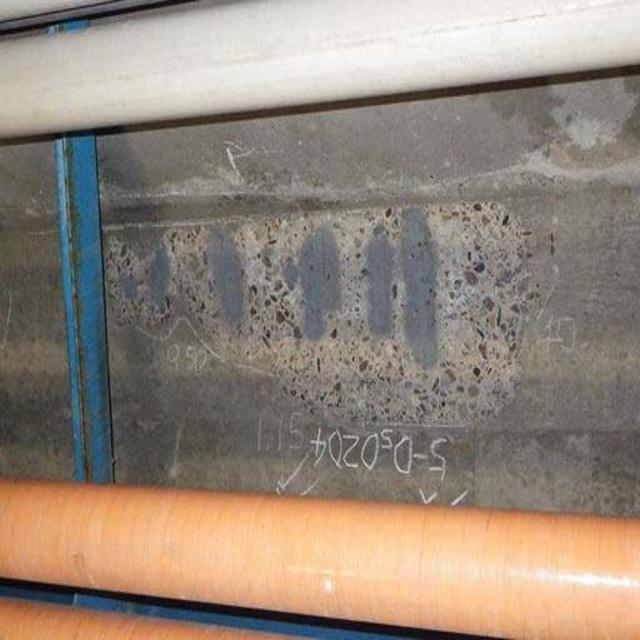spalling: (109, 213, 530, 424)
